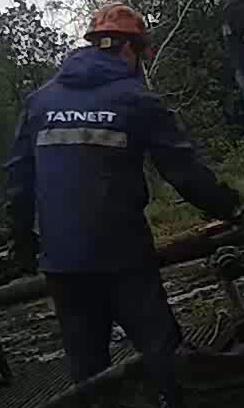gloves: (9, 225, 41, 280)
helmet: (83, 2, 149, 43)
vest: (34, 78, 161, 272)
